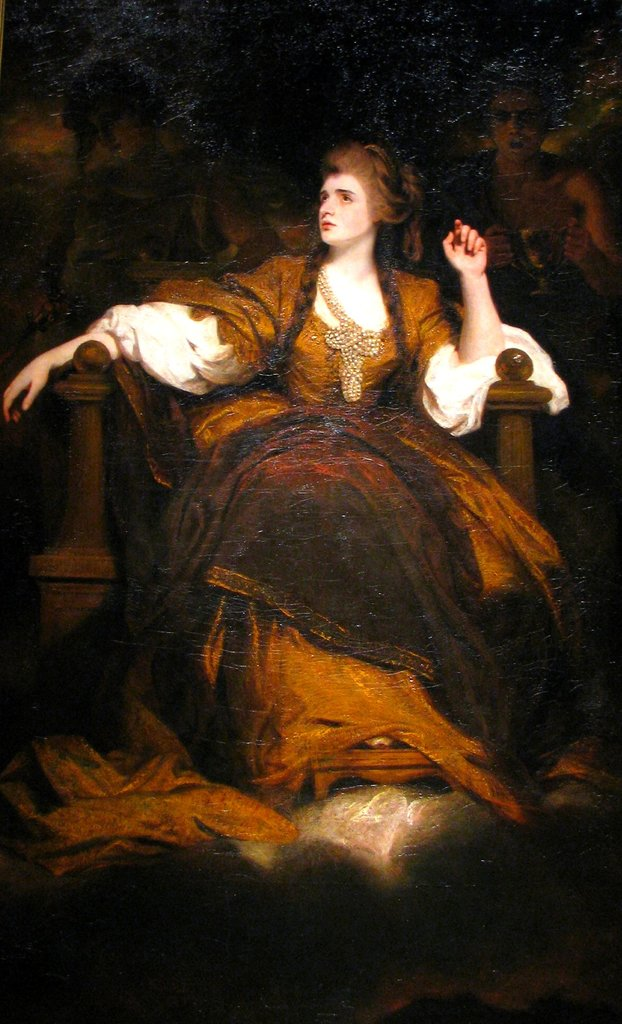Human-face: (317, 165, 377, 252)
